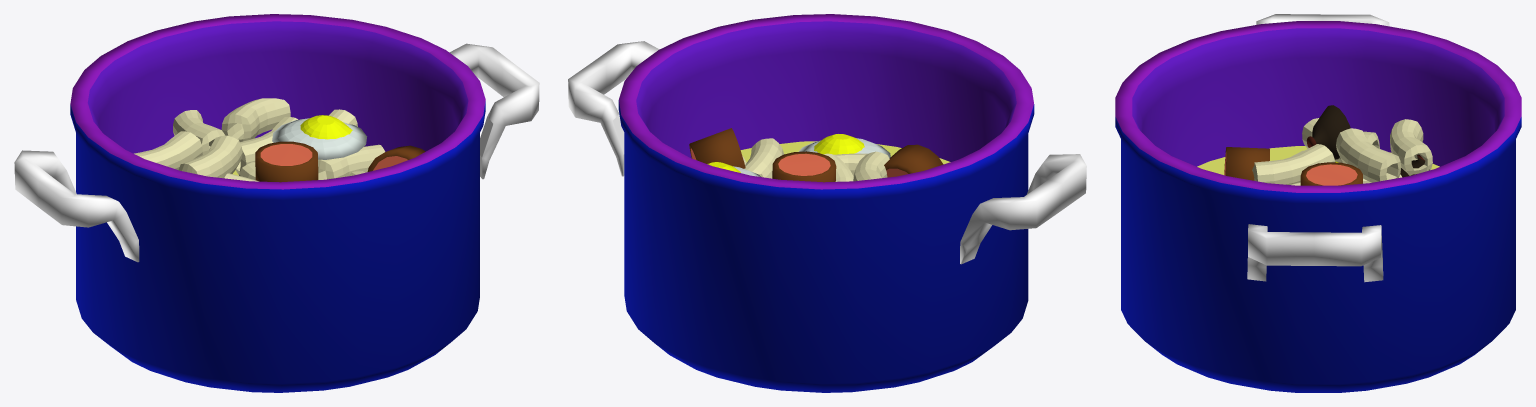
File: cheesedmac.fbx
The picture shows the model from 3 angles, left to right: view 1: azimuth 30°, elevation 25°; view 2: azimuth 150°, elevation 25°; view 3: azimuth 270°, elevation 25°; orthographic projection.
Parts seen in each view (by area): view 1: Pot, Handles, cooked noodles, HotdogSlice1.001, Egg1, Egg1.001, HotdogSlice1.002; view 2: Pot, Handles, cooked noodles, HotdogSlice1.001, HotdogSlice1.002, HotdogSlice2, Egg1.003, Cheese.002; view 3: Pot, Handles, cooked noodles, HotdogSlice1.001, HotdogSlice1, HotdogSlice2, Cheese.002.
Part boxes in pixels (bbox=[...]): Pot: bbox=[70, 14, 485, 392]; Handles: bbox=[14, 43, 539, 262]; cooked noodles: bbox=[134, 98, 385, 181]; HotdogSlice1.001: bbox=[255, 141, 318, 182]; Egg1: bbox=[272, 118, 367, 159]; Egg1.001: bbox=[300, 115, 352, 139]; HotdogSlice1.002: bbox=[367, 145, 425, 171]; Pot: bbox=[618, 14, 1034, 392]; Handles: bbox=[568, 41, 1086, 264]; cooked noodles: bbox=[744, 138, 889, 181]; HotdogSlice1.001: bbox=[772, 151, 836, 182]; HotdogSlice1.002: bbox=[689, 128, 745, 168]; HotdogSlice2: bbox=[884, 144, 943, 177]; Egg1.003: bbox=[814, 134, 864, 154]; Cheese.002: bbox=[740, 141, 950, 164]; Pot: bbox=[1115, 21, 1521, 392]; Handles: bbox=[1247, 14, 1389, 282]; cooked noodles: bbox=[1252, 118, 1432, 185]; HotdogSlice1.001: bbox=[1300, 162, 1362, 185]; HotdogSlice1: bbox=[1306, 105, 1350, 159]; HotdogSlice2: bbox=[1224, 147, 1269, 180]; Cheese.002: bbox=[1197, 146, 1439, 174].
Bounding box in the file's own units: 83.61 × 35.99 × 62.94.
